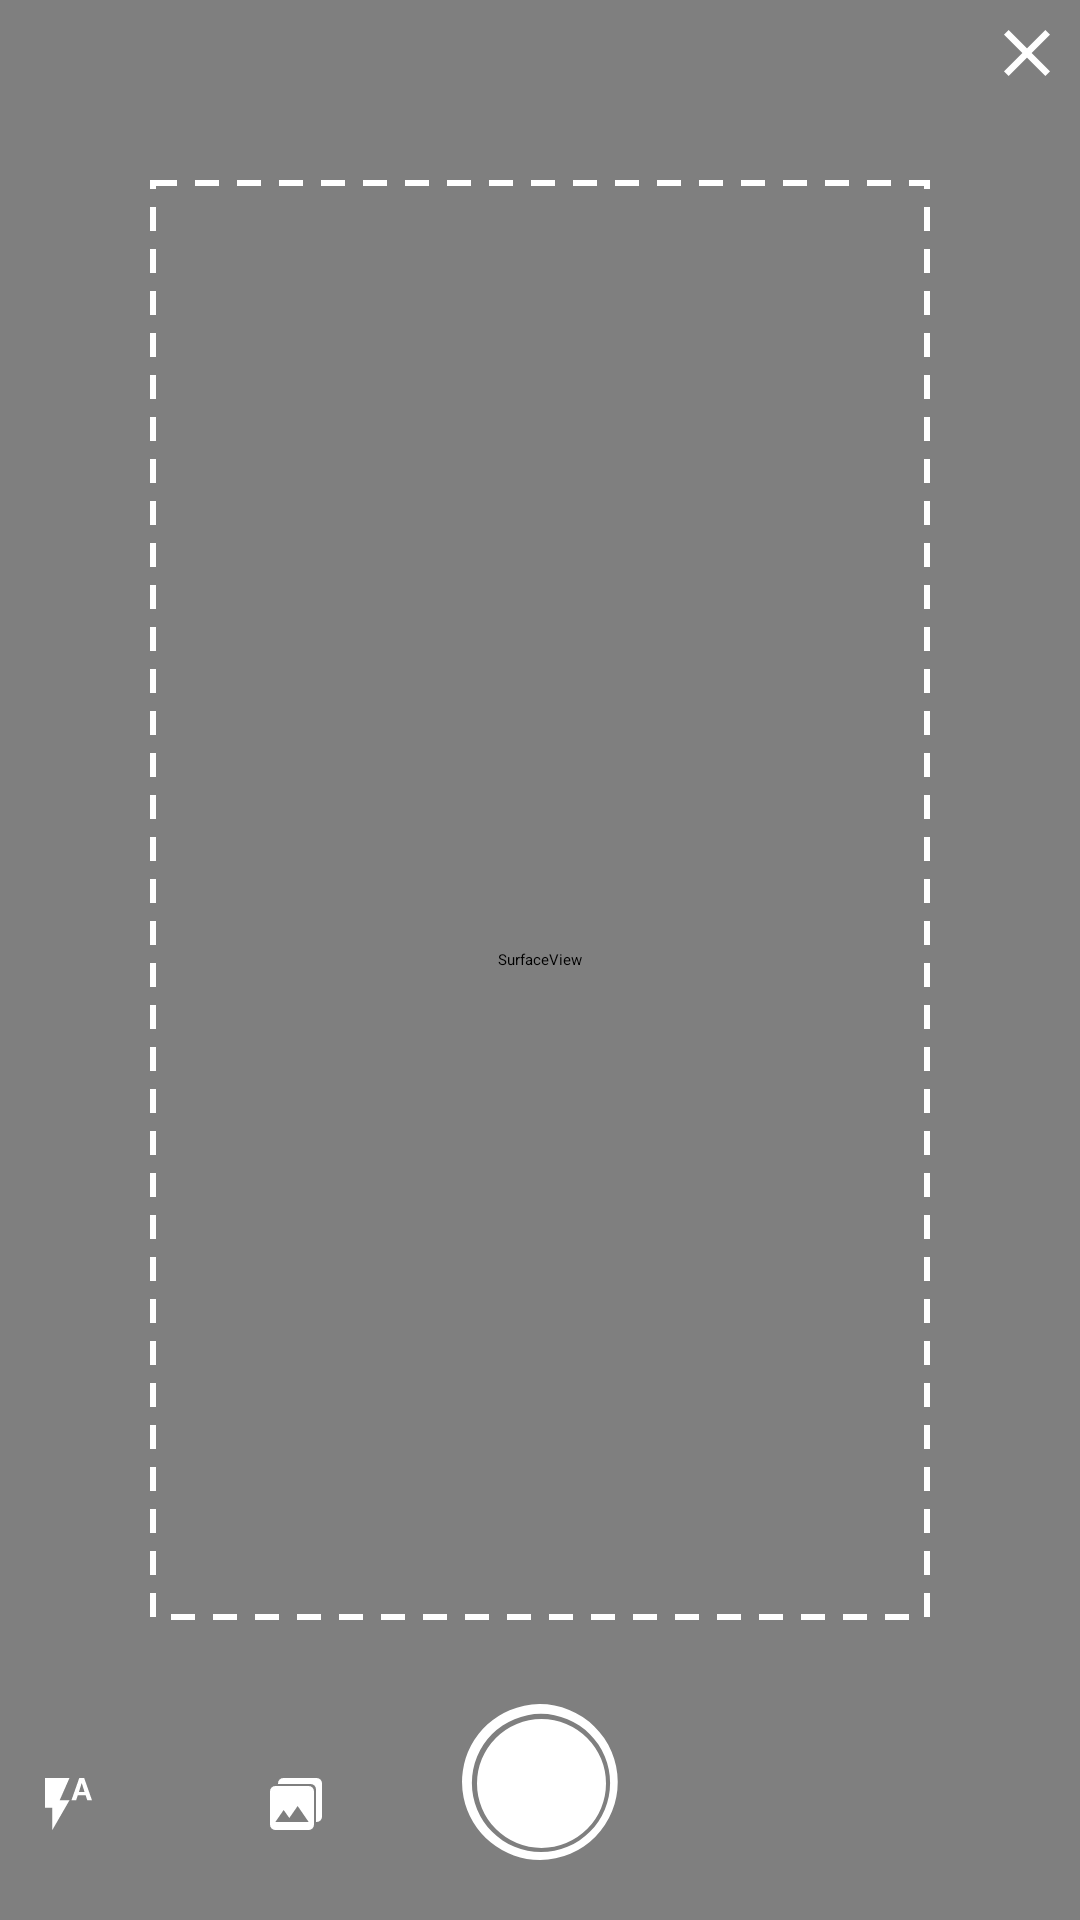

Screen size 1080x1920. Icon name, then its center in pixels as [x,y]:
capture: [540,1782]
close: [1027,53]
flash auto: [68,1804]
gallery photo: [296,1804]
